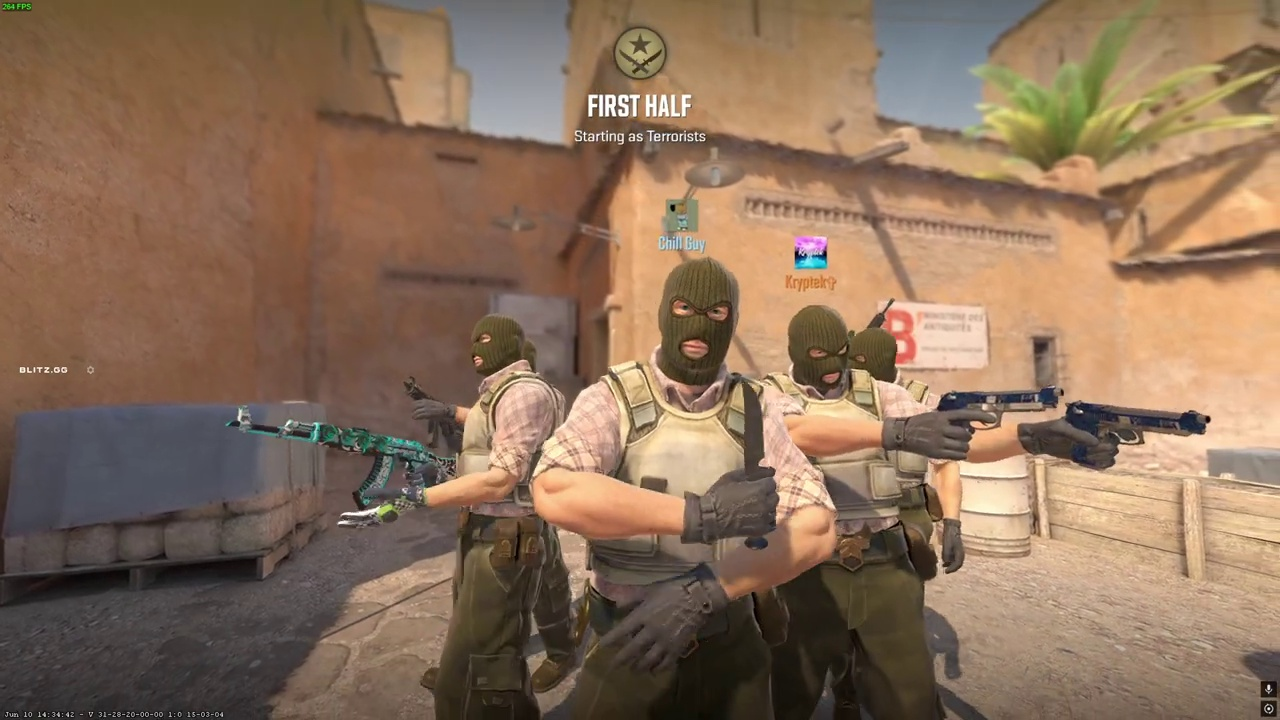Terrorist: (545, 257, 810, 719), (759, 305, 926, 720), (415, 314, 565, 720)
